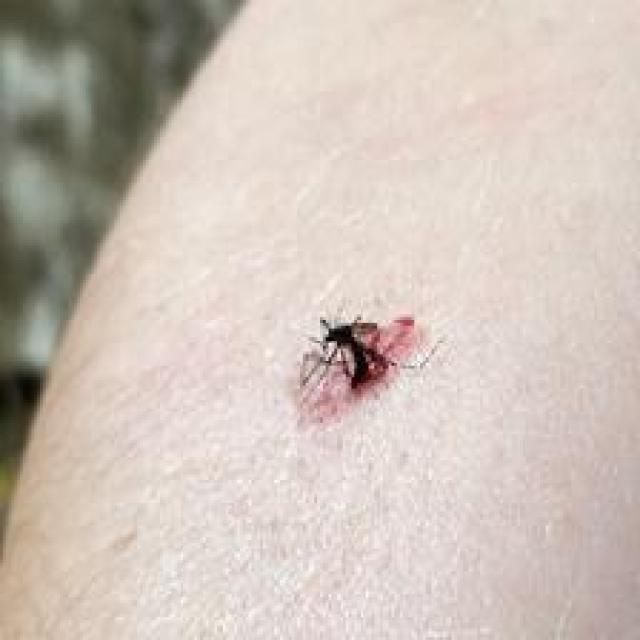Aedes albopictus: (294, 308, 443, 428)
